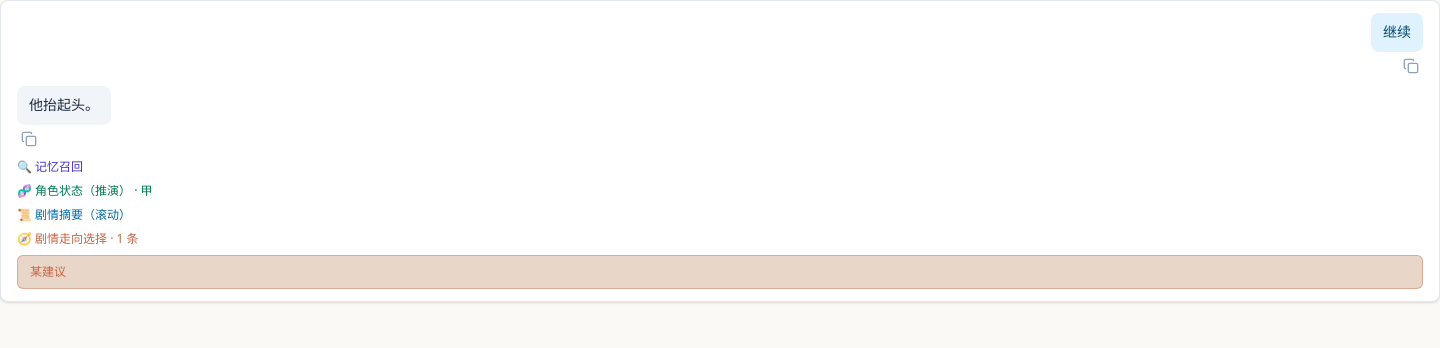
Scenario: TurnSegments › renders the rolling-summary bubble when round.rollingSummaryAfter is set
What coordinates should you click on to do the following:
click the button "📜 剧情摘要（滚动）"
I would click on:
 (74, 214)
Its box is [17, 206, 131, 222].
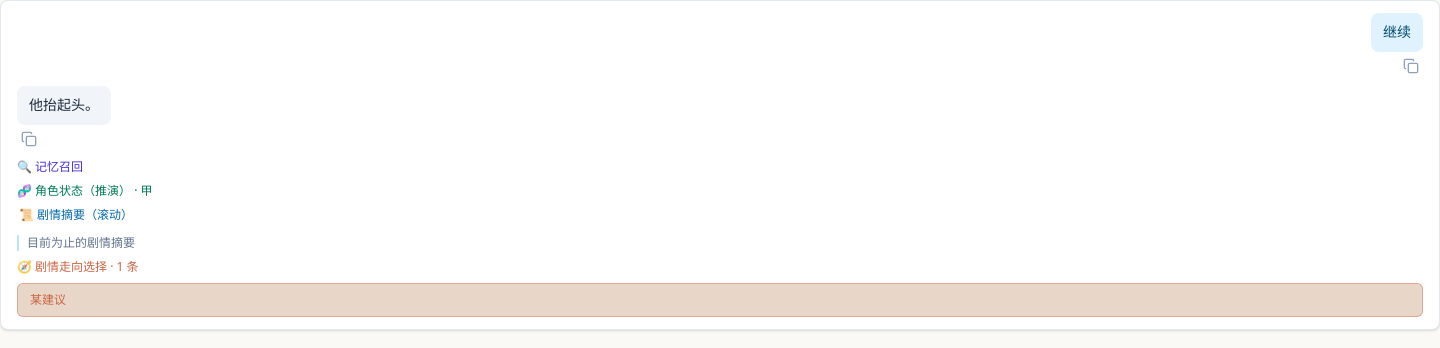
Expected: the text "目前为止的剧情摘要" is shown, [17, 234, 135, 250]
